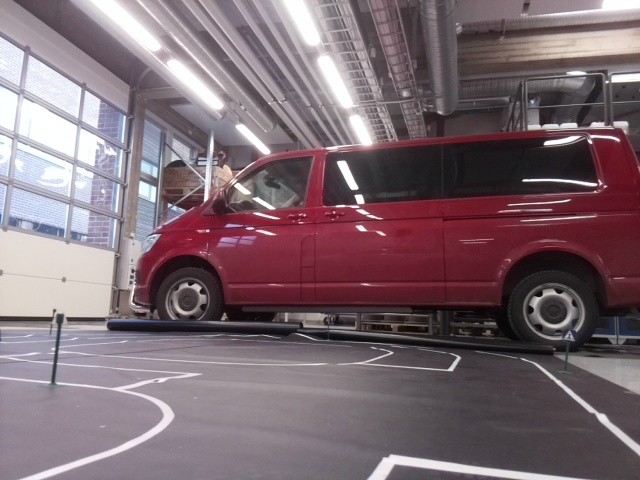Crosswalk: (563, 327, 574, 341)
